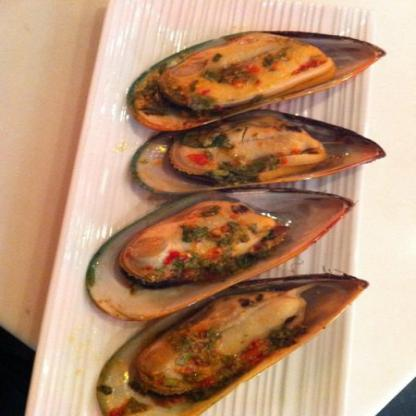mussel: (92, 276, 357, 416), (81, 191, 352, 317), (138, 31, 372, 129), (133, 108, 385, 195)
